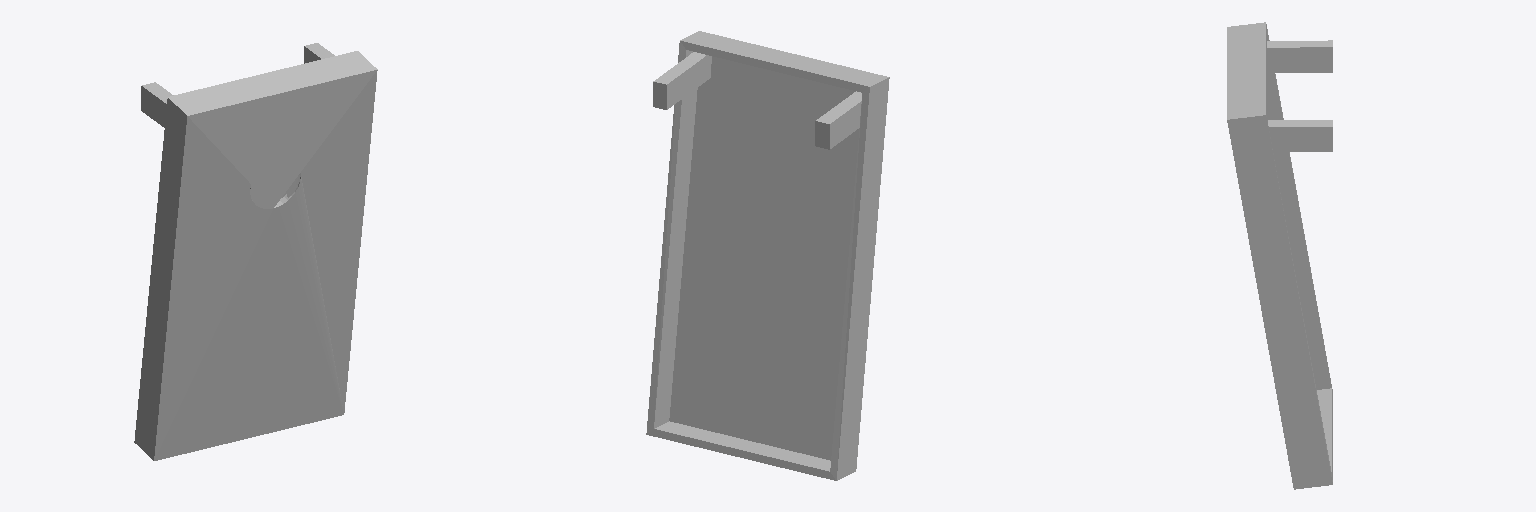
The model's file is cornholeBoardJack.obj.
The picture shows the model from 3 angles: view 1: azimuth 30°, elevation 25°; view 2: azimuth 150°, elevation 25°; view 3: azimuth 270°, elevation 25°; orthographic projection.
Parts seen in each view (by area): view 1: Cube; view 2: Cube; view 3: Cube.
Boxes of the visible parts, x1,y1,x2,y2 form: Cube: [134, 43, 377, 460]; Cube: [646, 31, 889, 480]; Cube: [1227, 22, 1332, 489].
Bounding box in the file's own units: 200 × 376 × 96.5.